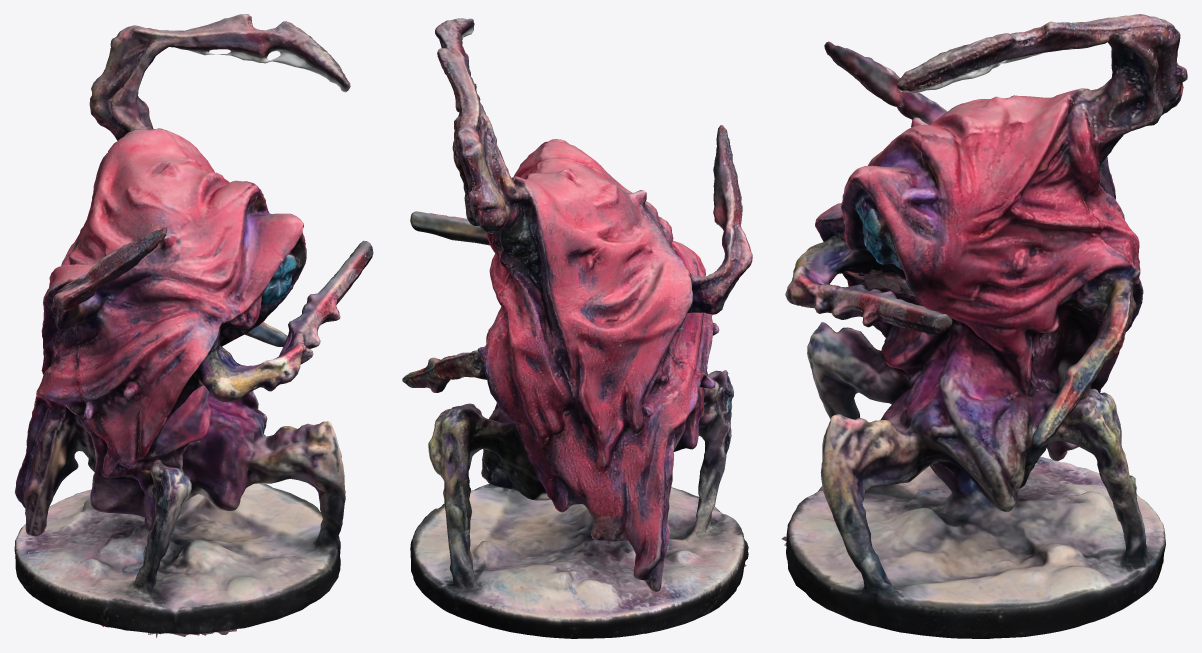
The model's file is GeminateMelee.glb.
3 views of the same model, side by side, from view 1: azimuth 30°, elevation 25°; view 2: azimuth 150°, elevation 25°; view 3: azimuth 270°, elevation 25° (orthographic). The views are drawn at different scales.
Parts seen in each view (by area): view 1: geminate_melee; view 2: geminate_melee; view 3: geminate_melee.
Boxes of the visible parts, bbox=[...] form: geminate_melee: bbox=[14, 14, 373, 637]; geminate_melee: bbox=[402, 18, 752, 638]; geminate_melee: bbox=[782, 14, 1187, 638].
Size of the model in its own units: 9.5 by 14.36 by 8.85.
1 material, 1 textured.
